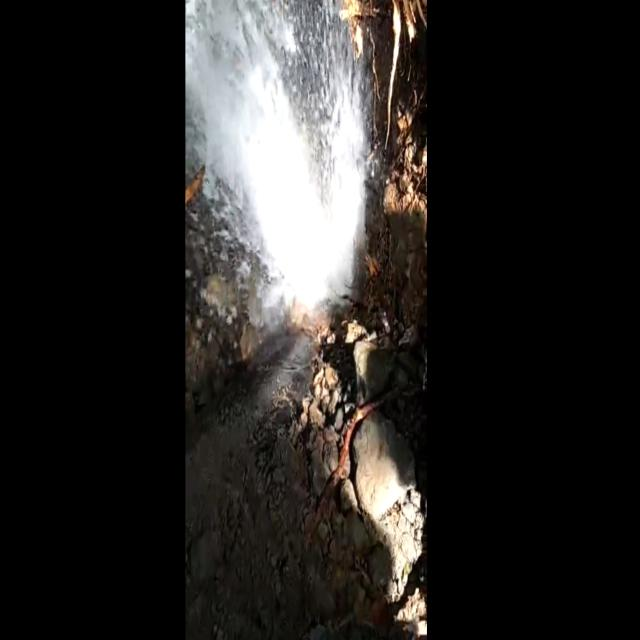leak: (186, 0, 366, 309)
